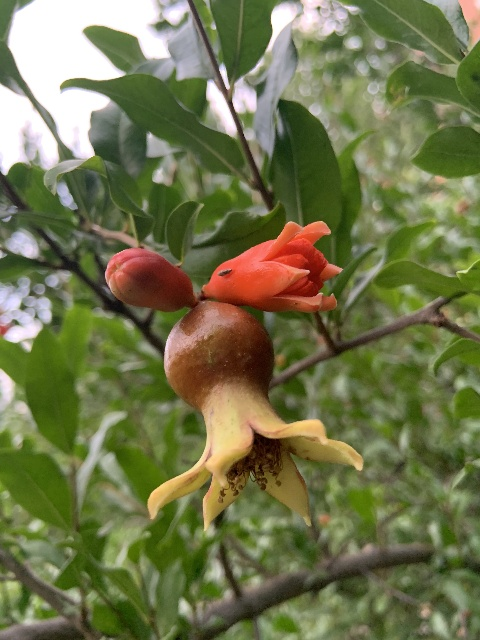bud: (106, 247, 194, 310)
early-fruit: (147, 302, 363, 532)
flower: (202, 220, 343, 314)
